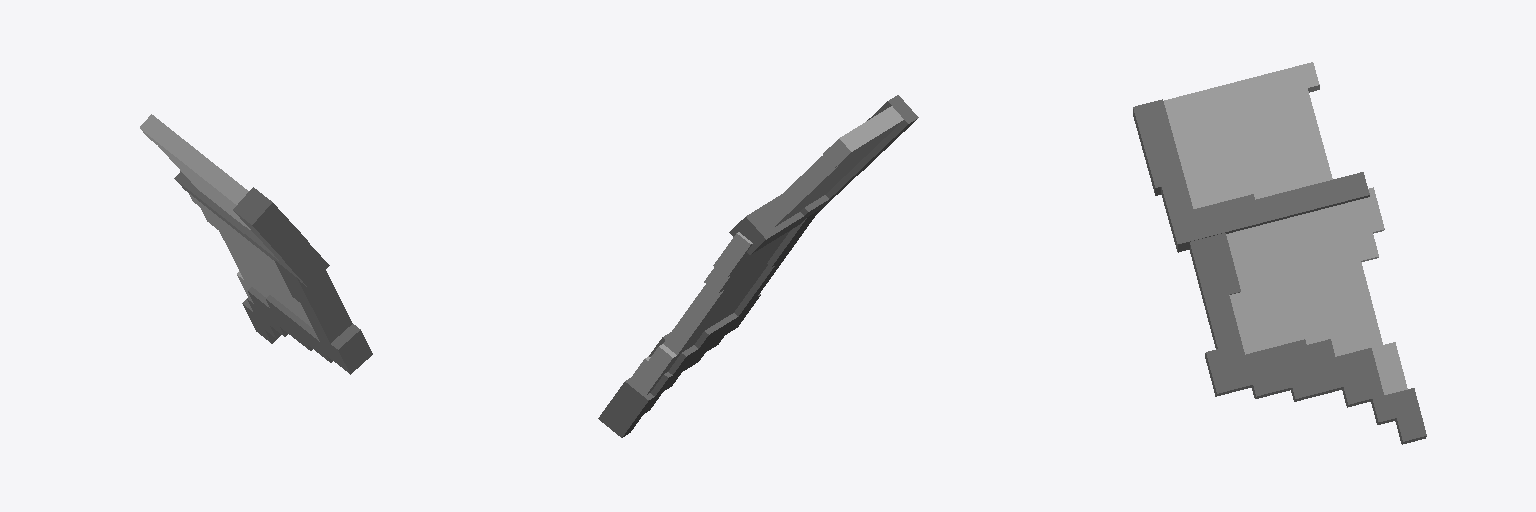
3 views of the same model, side by side, from view 1: azimuth 30°, elevation 25°; view 2: azimuth 150°, elevation 25°; view 3: azimuth 270°, elevation 25° (orthographic).
Parts seen in each view (by area): view 1: Model; view 2: Model; view 3: Model.
Part boxes in pixels (bbox=[...]): Model: bbox=[140, 114, 372, 374]; Model: bbox=[598, 95, 918, 437]; Model: bbox=[1133, 62, 1426, 444].
Bounding box in the file's own units: 37.17 × 53.65 × 47.27.
1 materials, 1 textured.